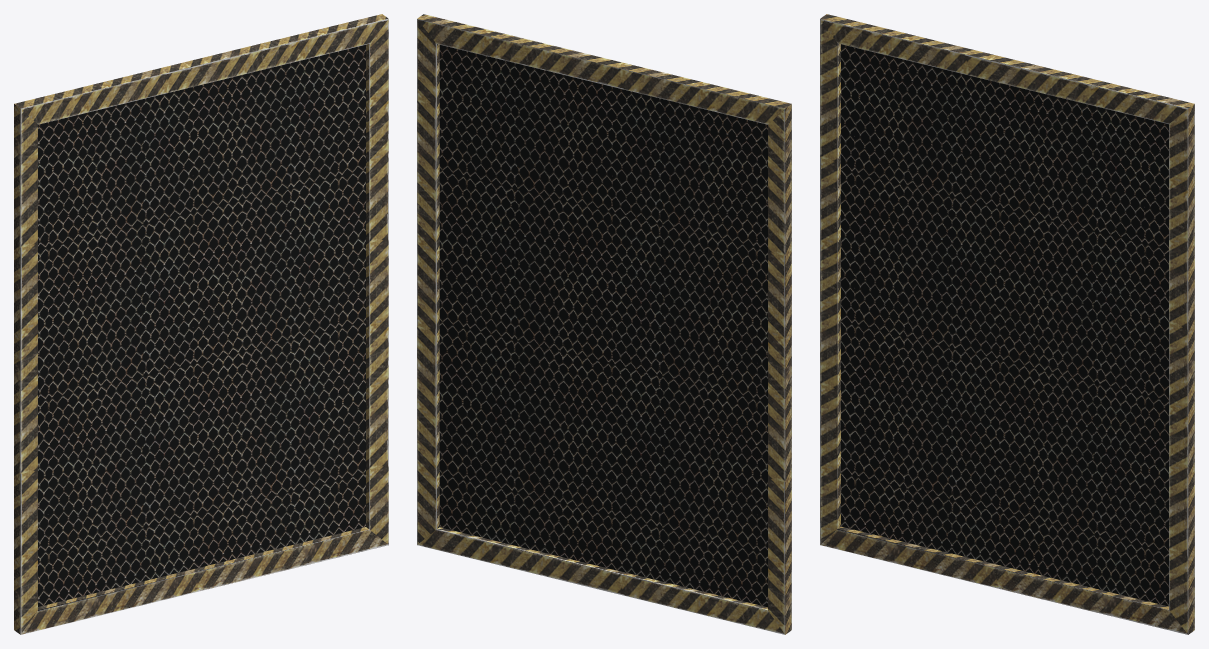
Rendered from fence_04.FBX.
3 renders of one model, left to right at view 1: azimuth 30°, elevation 25°; view 2: azimuth 150°, elevation 25°; view 3: azimuth 330°, elevation 25°, orthographic.
Parts seen in each view (by area): view 1: Object139, Object159; view 2: Object139, Object159; view 3: Object139, Object159.
Part boxes in pixels (<box>): Object139: <box>38,45,365,606</box>; Object159: <box>14,14,388,634</box>; Object139: <box>439,45,767,607</box>; Object159: <box>417,14,791,634</box>; Object139: <box>841,44,1168,606</box>; Object159: <box>820,14,1194,634</box>.
Bounding box in the file's own units: 293 × 9.1 × 400.
2 materials, 2 textured.
